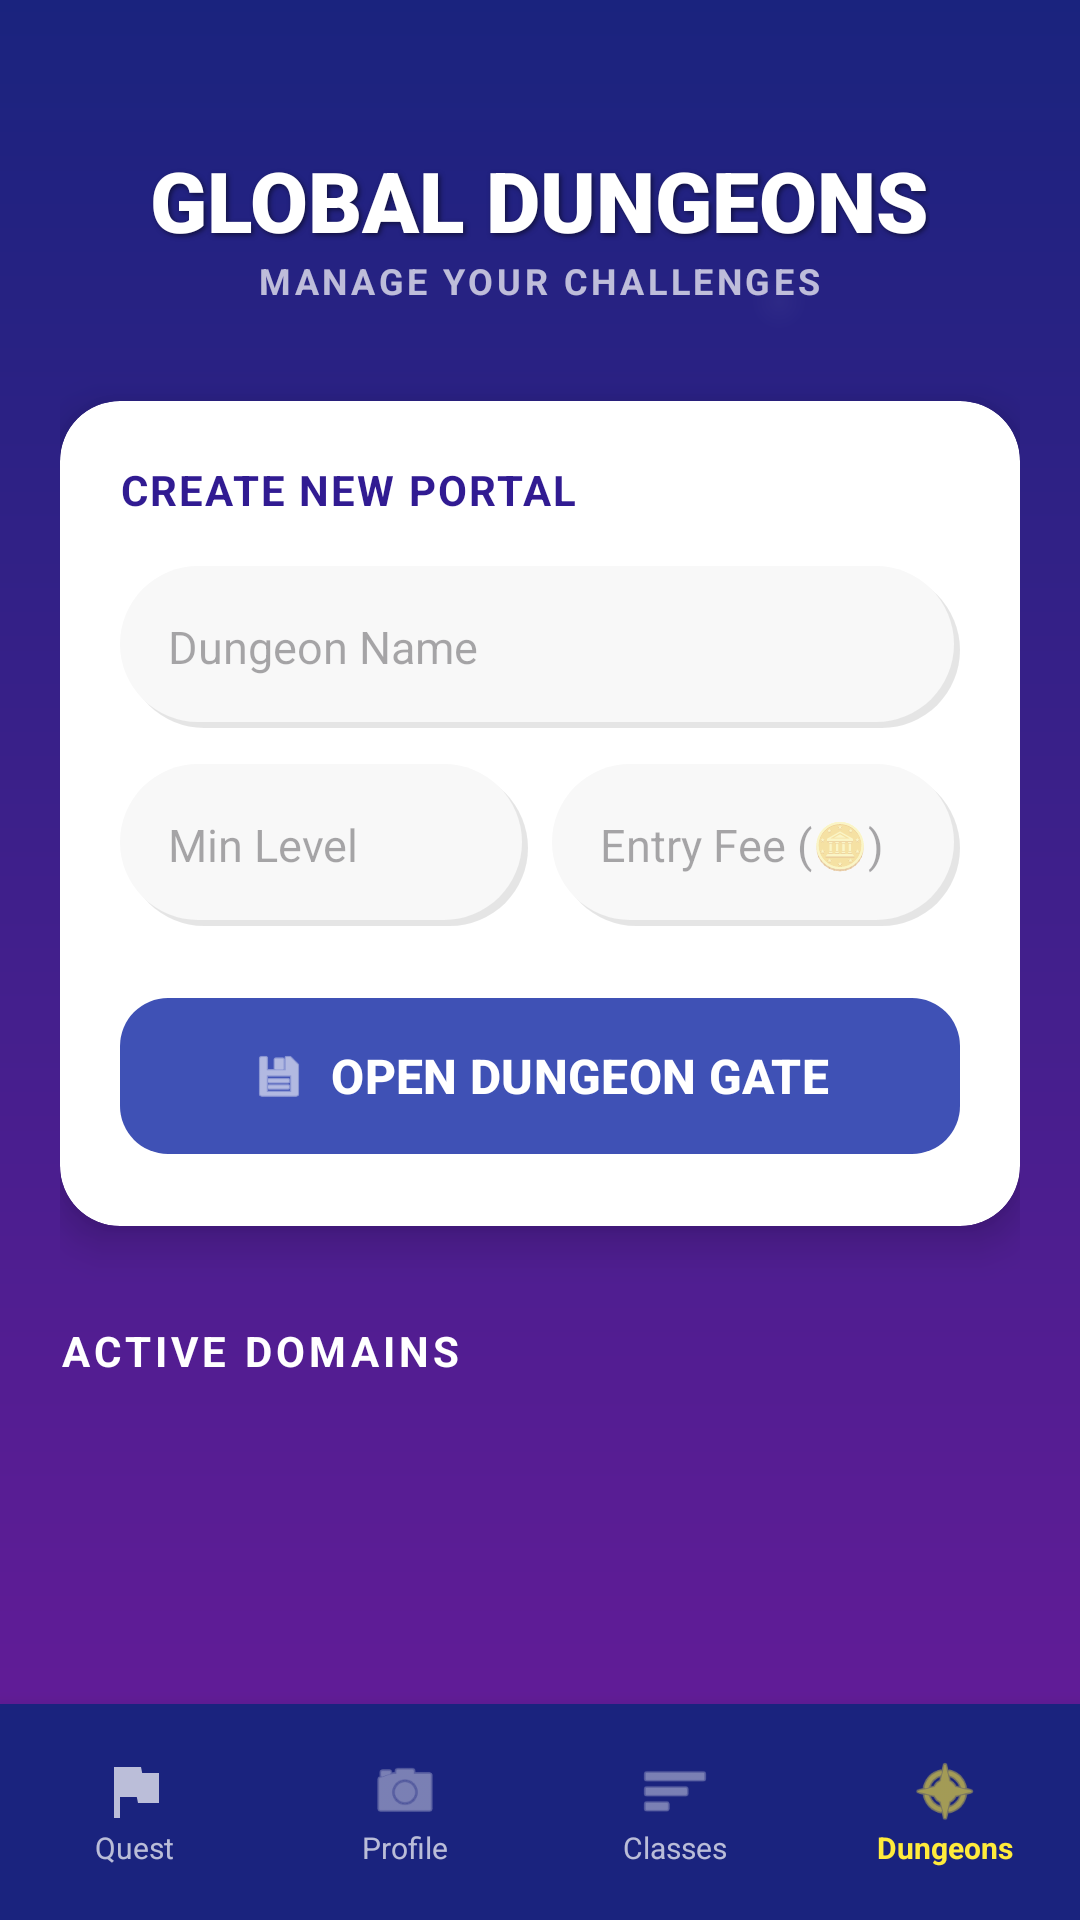

Icon click points for this 1080px×1920px phone screenshot, format (x=x, y=y):
camera: (x=405, y=1790)
compass: (x=944, y=1791)
sort by size: (x=675, y=1791)
